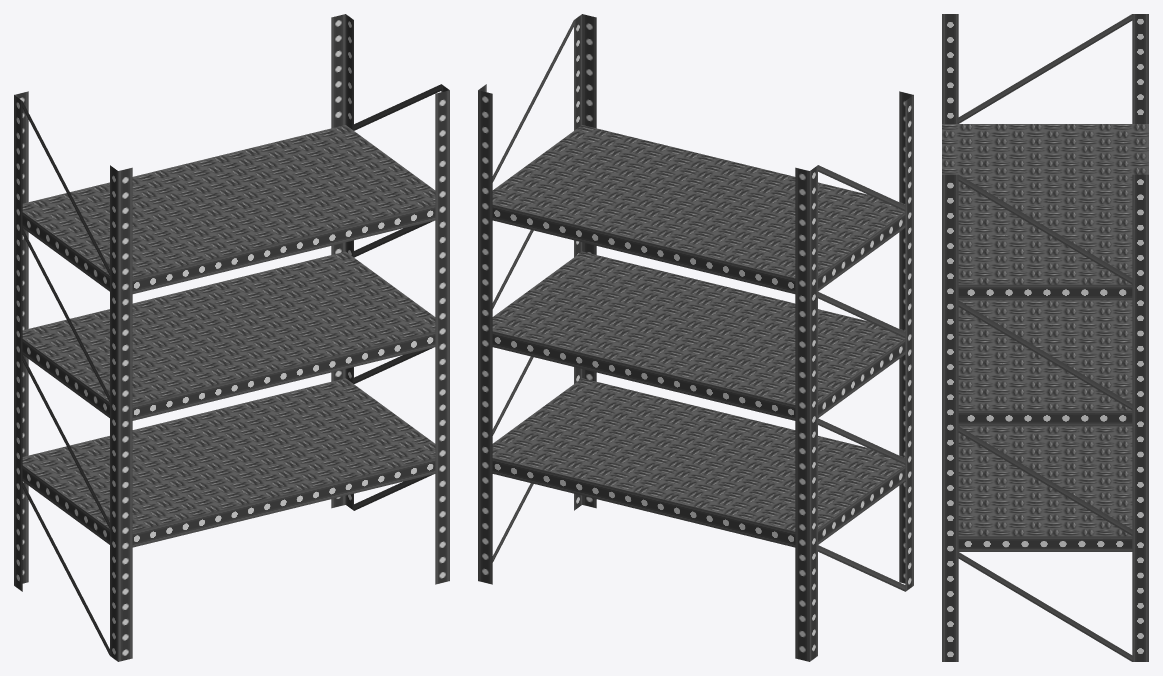
The model's file is Rack_010.fbx.
3 renders of one model, left to right at view 1: azimuth 30°, elevation 25°; view 2: azimuth 150°, elevation 25°; view 3: azimuth 270°, elevation 25°, orthographic.
Parts seen in each view (by area): view 1: Hall.088; view 2: Hall.088; view 3: Hall.088.
Part boxes in pixels (<box>): Hall.088: <box>14,14,449,661</box>; Hall.088: <box>478,14,913,661</box>; Hall.088: <box>942,14,1148,661</box>.
Bounding box in the file's own units: 274 × 388 × 149.
